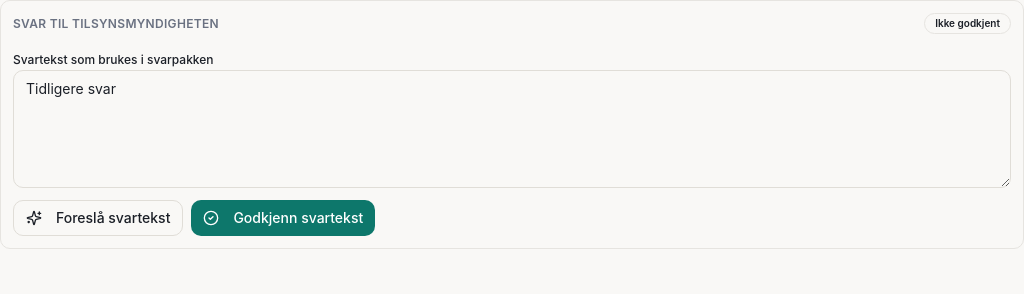
Test case: Applying an inspection response suggestion › does not offer an empty AI response for insertion
Click the button "Foreslå svartekst" at coordinates (98, 218), box [13,200,183,236]
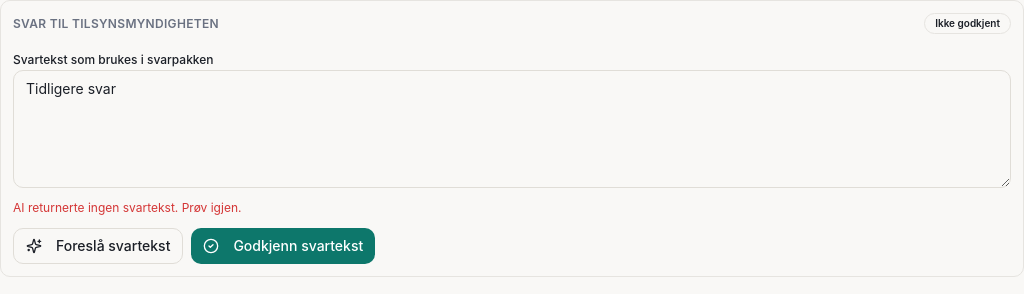
Result: the message "AI returnerte ingen svartekst. Prøv igjen." is shown at [13,200,241,215]
